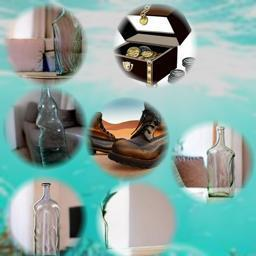not an animal: (92, 107, 164, 169), (27, 10, 85, 81), (196, 126, 241, 198), (26, 86, 68, 163), (27, 179, 65, 256), (99, 189, 120, 250)
treasure: (114, 4, 195, 87)
